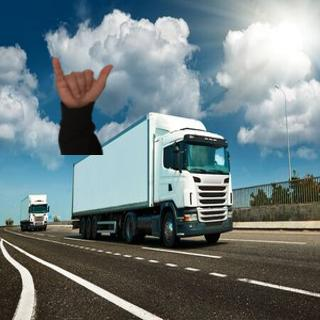HAVE: (44, 52, 118, 111)
